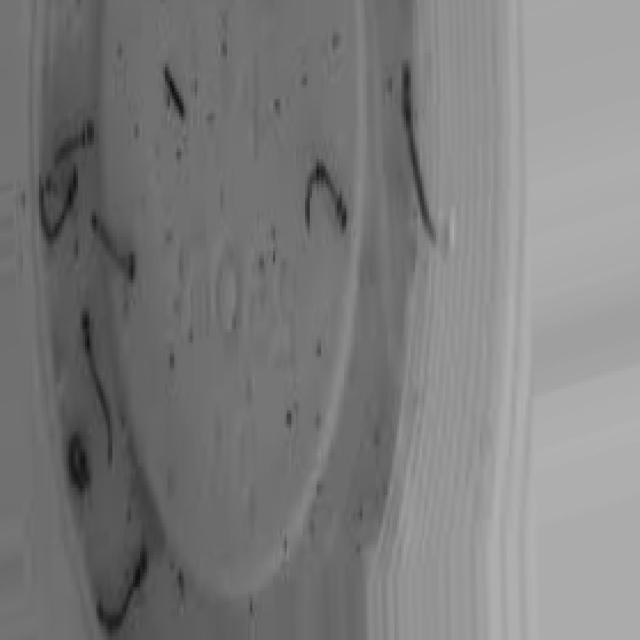larvas: (77, 298, 130, 476), (403, 60, 436, 248), (99, 535, 149, 629), (90, 211, 136, 283), (305, 161, 348, 236), (39, 167, 80, 243), (48, 119, 93, 164), (67, 431, 89, 490), (161, 60, 184, 116)
